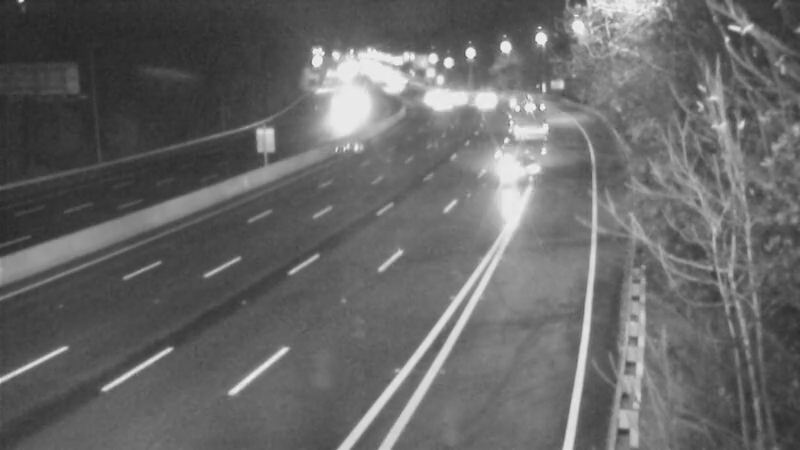vehicle: (475, 125, 555, 205), (363, 64, 413, 114), (437, 69, 487, 119), (461, 76, 511, 126), (498, 95, 548, 145), (311, 90, 361, 140)
